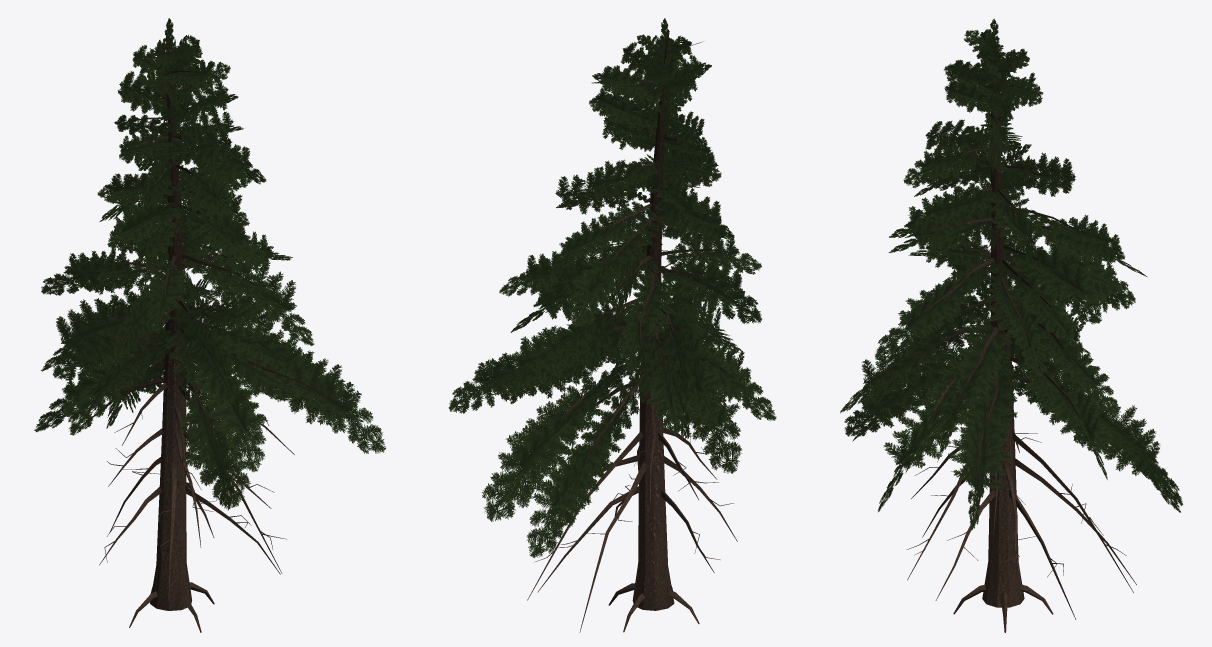
File: pine_a.glb
3 renders of one model, left to right at view 1: azimuth 30°, elevation 25°; view 2: azimuth 150°, elevation 25°; view 3: azimuth 270°, elevation 25°, orthographic. The views are drawn at different scales.
Visible parts, largest first — view 1: pine_a_pine_needles_a, pine_a_bark_pine; view 2: pine_a_pine_needles_a, pine_a_bark_pine; view 3: pine_a_pine_needles_a, pine_a_bark_pine.
Boxes of the visible parts, x1,y1,x2,y2 form: pine_a_pine_needles_a: (34,18,385,510); pine_a_bark_pine: (80,35,340,632); pine_a_pine_needles_a: (448,18,776,558); pine_a_bark_pine: (487,35,737,632); pine_a_pine_needles_a: (840,18,1183,529); pine_a_bark_pine: (875,35,1136,632).
Bounding box in the file's own units: 8.35 × 14.68 × 8.5.
Materials: 2 (2 with a texture image).
